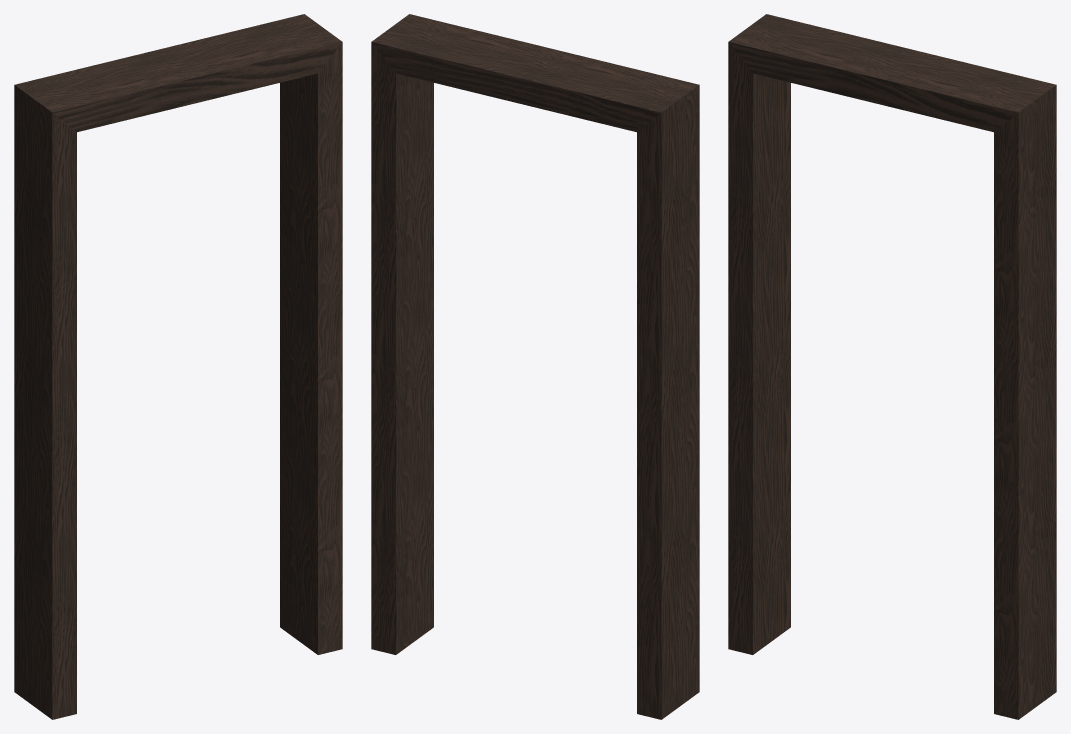
File: door_021.fbx
The picture shows the model from 3 angles, left to right: view 1: azimuth 30°, elevation 25°; view 2: azimuth 150°, elevation 25°; view 3: azimuth 330°, elevation 25°; orthographic projection.
Visible parts, largest first — view 1: door_021; view 2: door_021; view 3: door_021.
Boxes of the visible parts, x1,y1,x2,y2 form: door_021: (14,14,342,719); door_021: (371,14,699,719); door_021: (728,14,1056,719).
Bounding box in the file's own units: 115 × 26.01 × 229.
